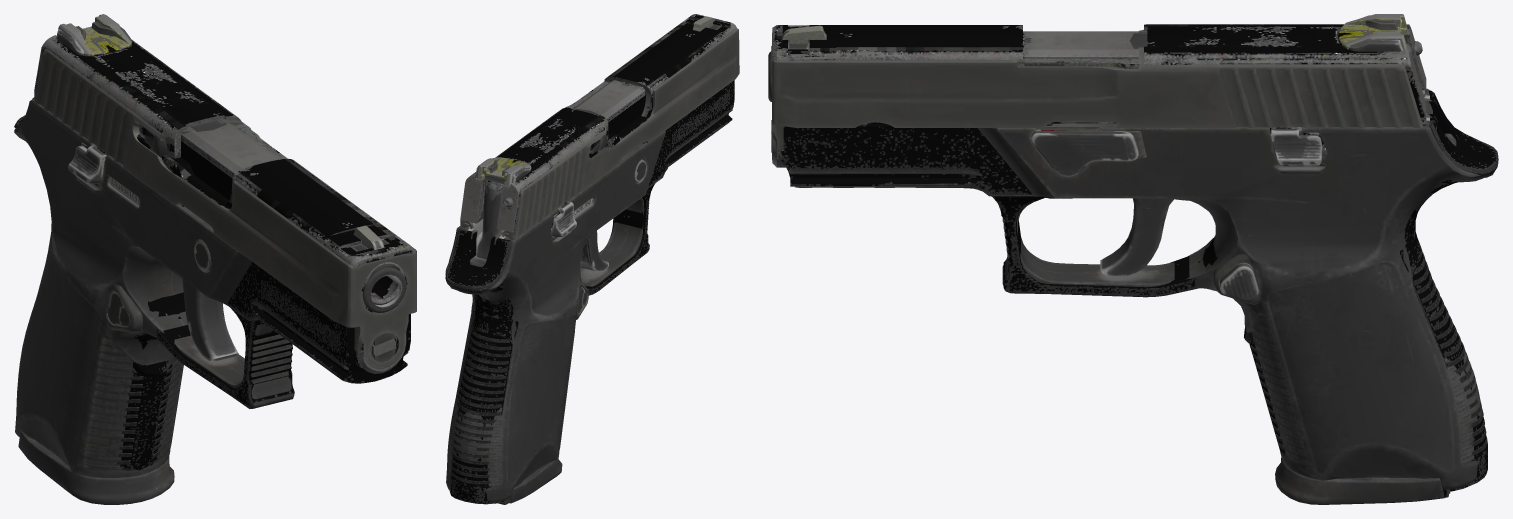
3 views of the same model, side by side, from view 1: azimuth 30°, elevation 25°; view 2: azimuth 150°, elevation 25°; view 3: azimuth 270°, elevation 25° (orthographic). The views are drawn at different scales.
Visible parts, largest first — view 1: weapons\models\p250\weapon_pist_p250.vmdl_c.body_hd, weapons\models\p250\weapon_pist_p250.vmdl_c.body_legacy; view 2: weapons\models\p250\weapon_pist_p250.vmdl_c.body_hd, weapons\models\p250\weapon_pist_p250.vmdl_c.body_legacy; view 3: weapons\models\p250\weapon_pist_p250.vmdl_c.body_hd, weapons\models\p250\weapon_pist_p250.vmdl_c.body_legacy.
Boxes of the visible parts, box(x1,y1,x2,y2) form: weapons\models\p250\weapon_pist_p250.vmdl_c.body_hd: box(14, 21, 416, 504); weapons\models\p250\weapon_pist_p250.vmdl_c.body_legacy: box(14, 14, 413, 470); weapons\models\p250\weapon_pist_p250.vmdl_c.body_hd: box(445, 16, 739, 503); weapons\models\p250\weapon_pist_p250.vmdl_c.body_legacy: box(445, 14, 736, 504); weapons\models\p250\weapon_pist_p250.vmdl_c.body_hd: box(768, 15, 1485, 504); weapons\models\p250\weapon_pist_p250.vmdl_c.body_legacy: box(771, 14, 1498, 497).
Bounding box in the file's own units: 0.0356 × 0.1405 × 0.2032.
Materials: 2 (2 with a texture image).
